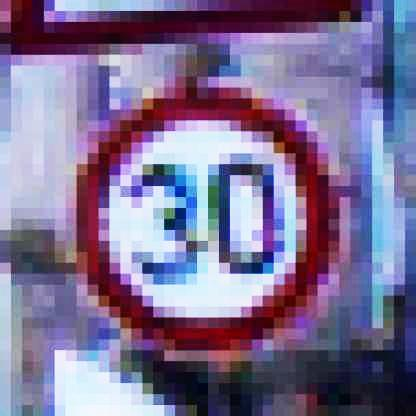Speed Limit -30-: (66, 85, 341, 364)
